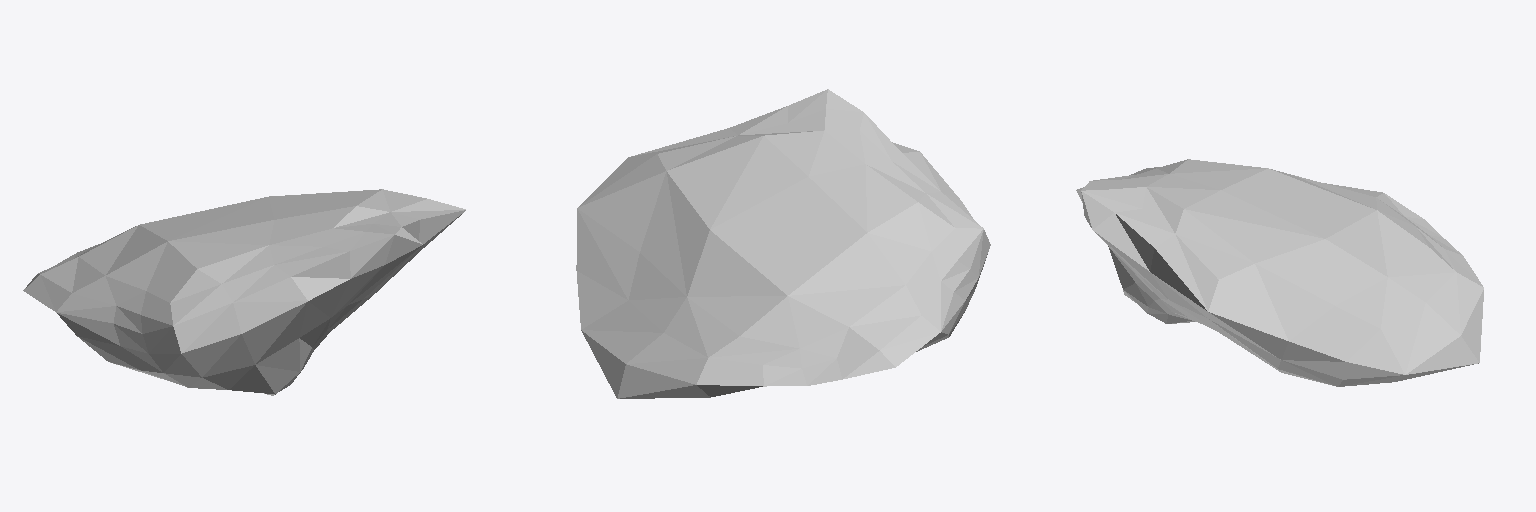
The model's file is rock13.obj.
3 views of the same model, side by side, from view 1: azimuth 30°, elevation 25°; view 2: azimuth 150°, elevation 25°; view 3: azimuth 270°, elevation 25° (orthographic).
Visible parts, largest first — view 1: Mesh; view 2: Mesh; view 3: Mesh.
Boxes of the visible parts, box(x1,y1,x2,y2) form: Mesh: box(23, 189, 465, 395); Mesh: box(576, 89, 990, 398); Mesh: box(1076, 159, 1483, 386).
Size of the model in its own units: 10.47 by 4.53 by 9.93.